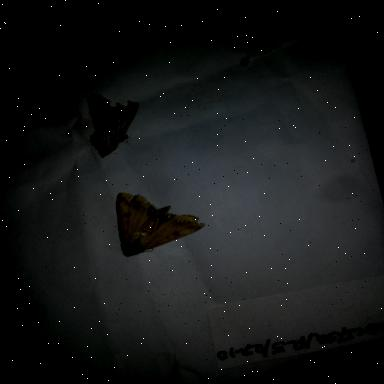abw: (106, 174, 215, 270), (74, 80, 154, 164)
